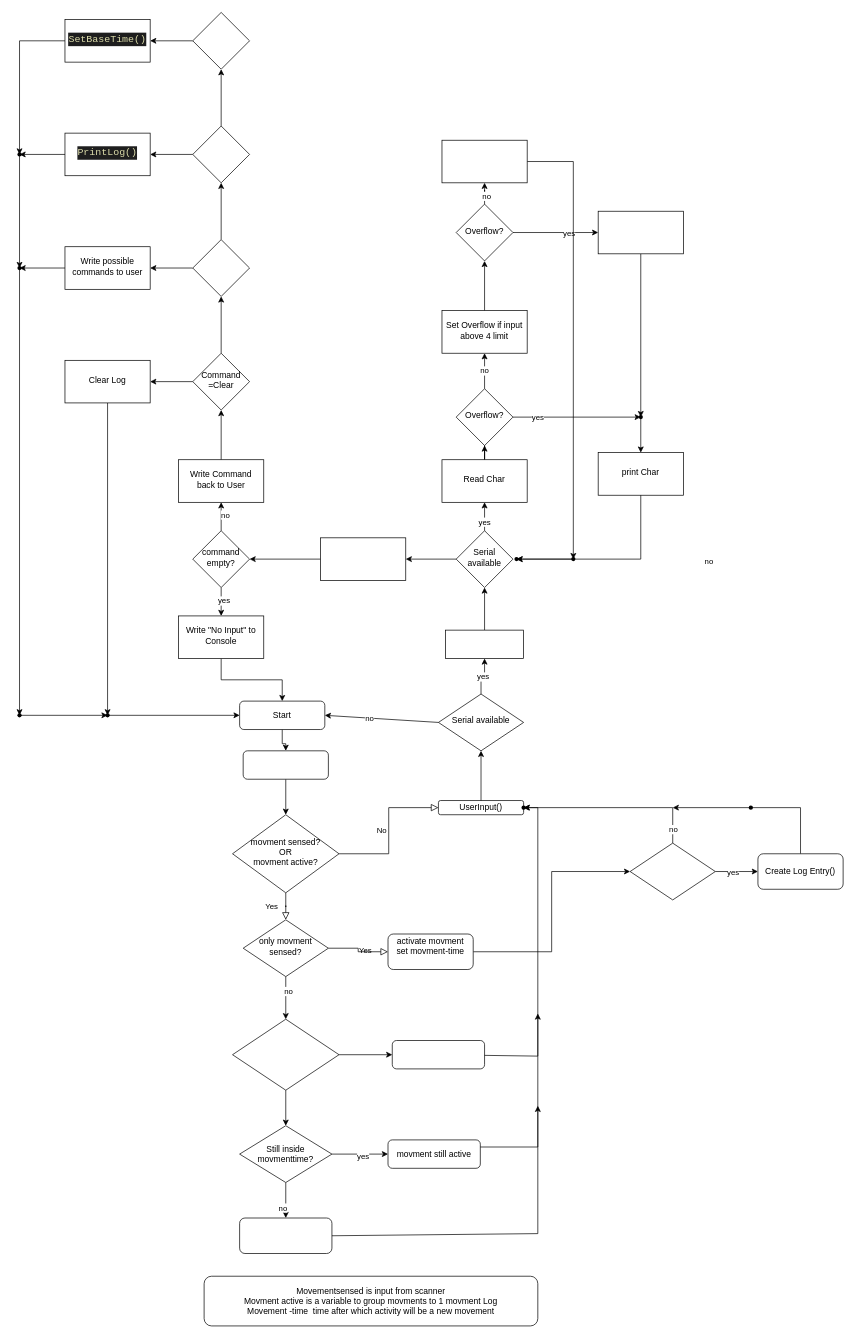
This 856x1338 diagram has some shape labels left out. The centre of each missing label's shape, as x and y in pixels:
"Add Char to command" goes at point (484, 161).
"checkMovement()" goes at point (285, 764).
"Command =Get" goes at point (221, 154).
"Command =help" goes at point (221, 267).
"Command =Set" goes at point (221, 40).
"deactivate Movment Debug Message that movment stopped" goes at point (285, 1235).
"getUserInput()" goes at point (484, 644).
"increase Movmenttime" goes at point (438, 1054).
"MemoryLimit reached?" goes at point (672, 871).
"movment sensed AND movment active" goes at point (285, 1054).
"print to User that 4 char limit reached" goes at point (640, 232).
"send Command to interpreter" goes at point (363, 558).
